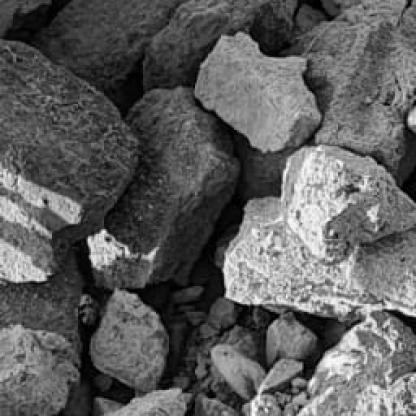cementitious_debris: (158, 238, 266, 413)
